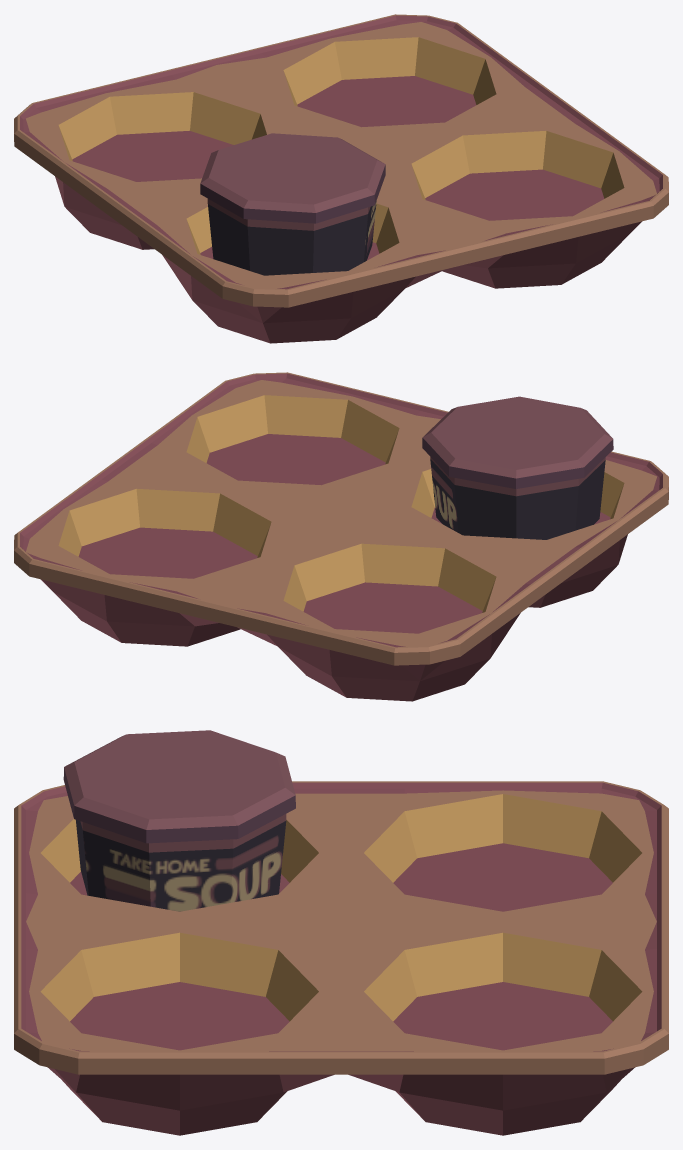
File: Carryable_Soup_1.fbx
3 renders of one model, top to bottom at view 1: azimuth 30°, elevation 25°; view 2: azimuth 150°, elevation 25°; view 3: azimuth 270°, elevation 25°, orthographic. The views are drawn at different scales.
Visible parts, largest first — view 1: Carryable_Soup_1; view 2: Carryable_Soup_1; view 3: Carryable_Soup_1.
Part boxes in pixels (x1,y1,x2,y2): Carryable_Soup_1: (14, 14, 668, 343); Carryable_Soup_1: (14, 372, 668, 701); Carryable_Soup_1: (14, 730, 668, 1135).
Size of the model in its own units: 122 by 36.24 by 122.
